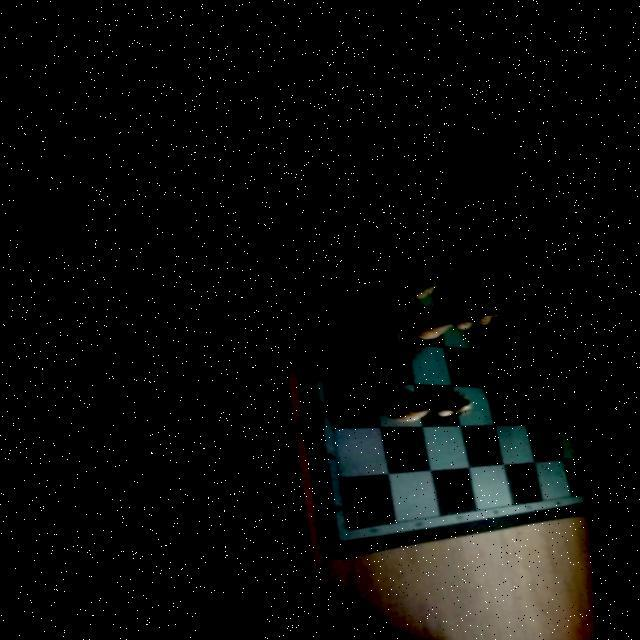chess-table-corners: (274, 145, 304, 172), (599, 468, 627, 494), (323, 512, 351, 538), (545, 222, 570, 242)
